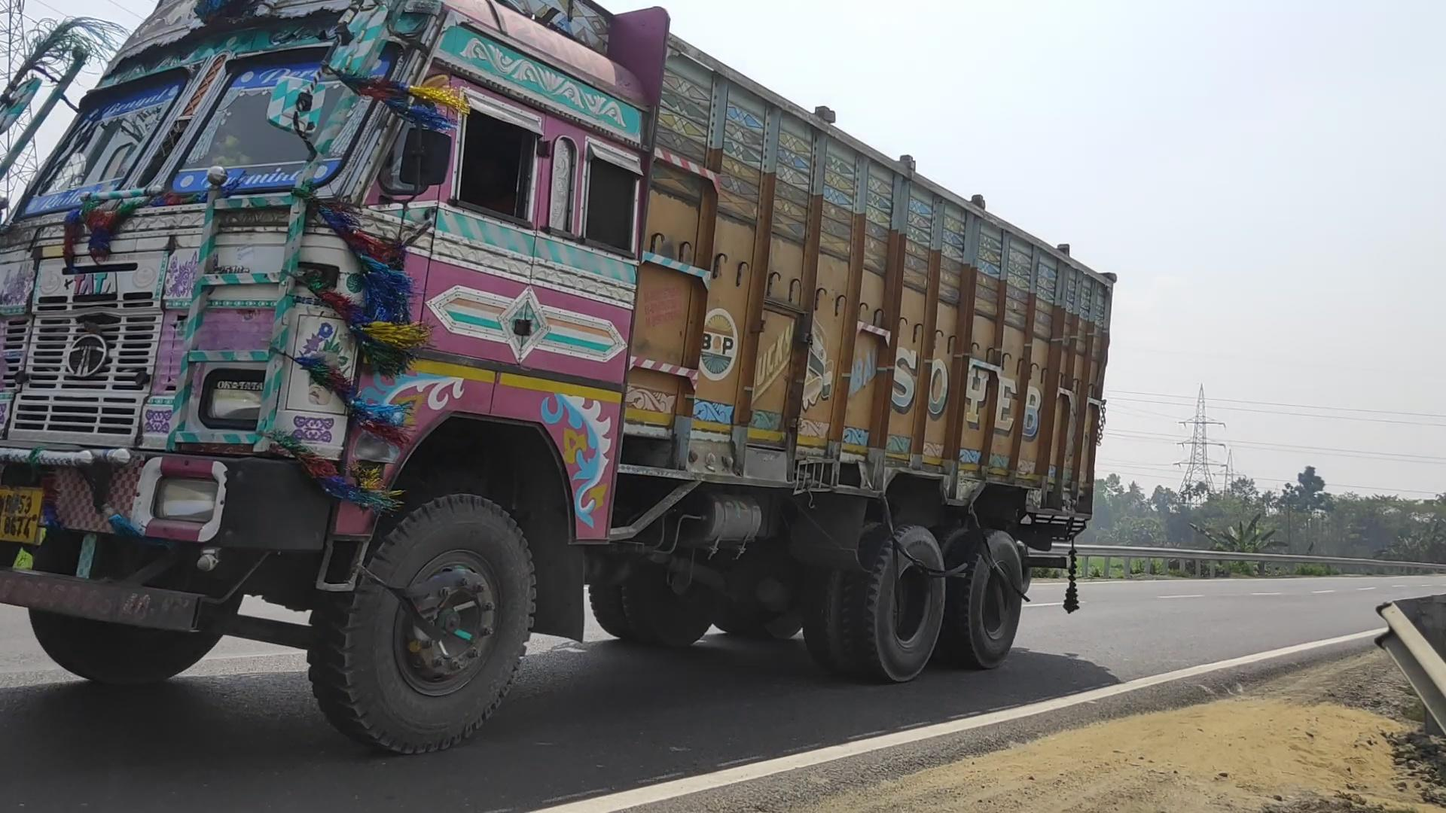truck: (2, 1, 1118, 757)
